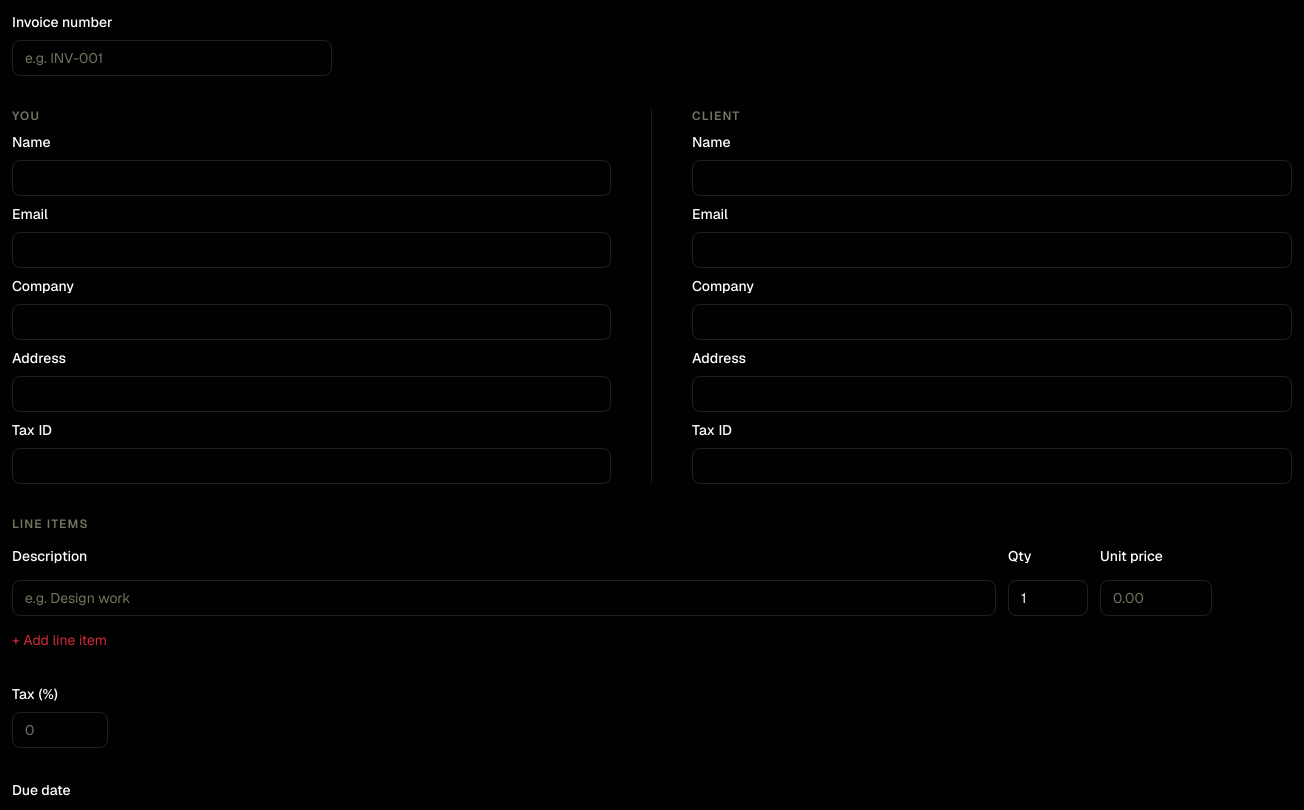
InvoiceForm line item validation › rejects qty values above 100,000
The width and height of the screenshot is (1304, 810).
Step 1. Replace the text in the field labelled "Qty" with "100001" → (1048, 598), box [1008, 580, 1088, 616]
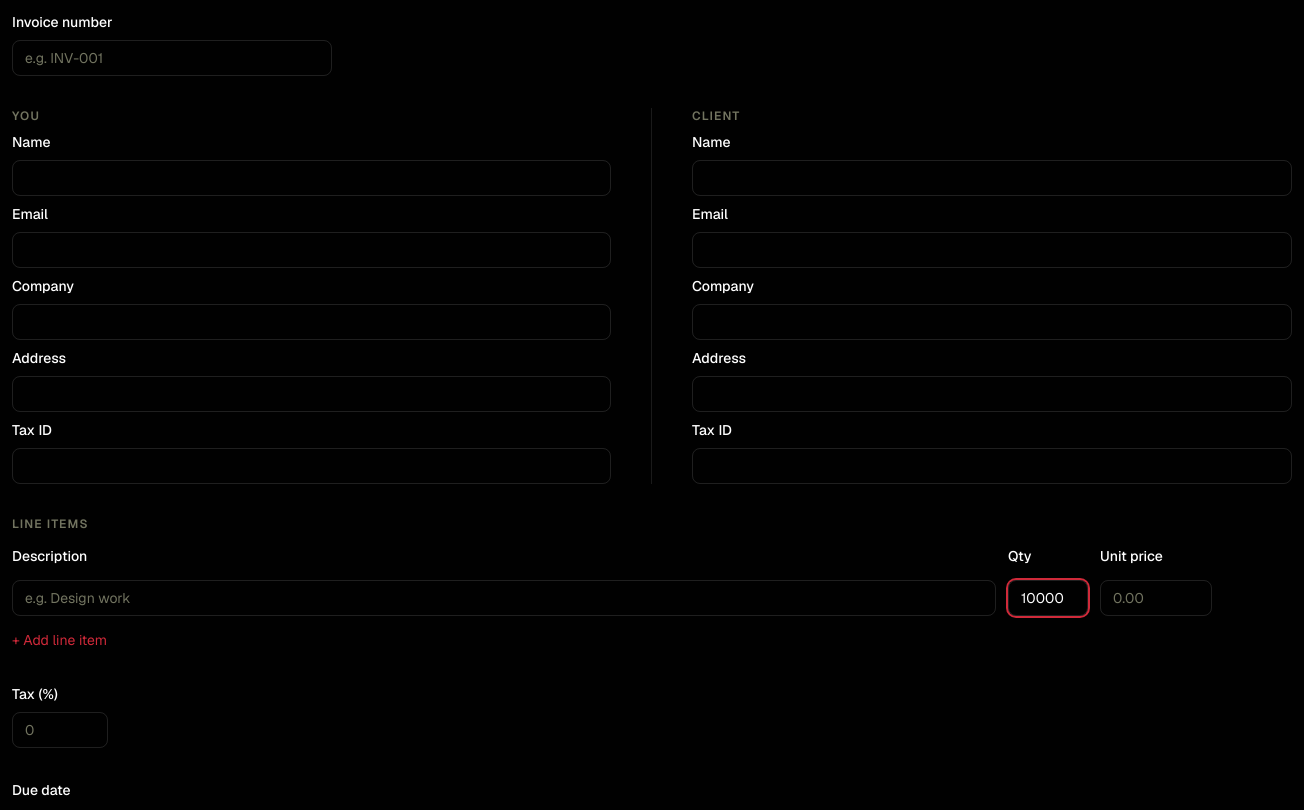
Expected: the field labelled "Qty" does not hold "100001", [1008, 580, 1088, 616]
